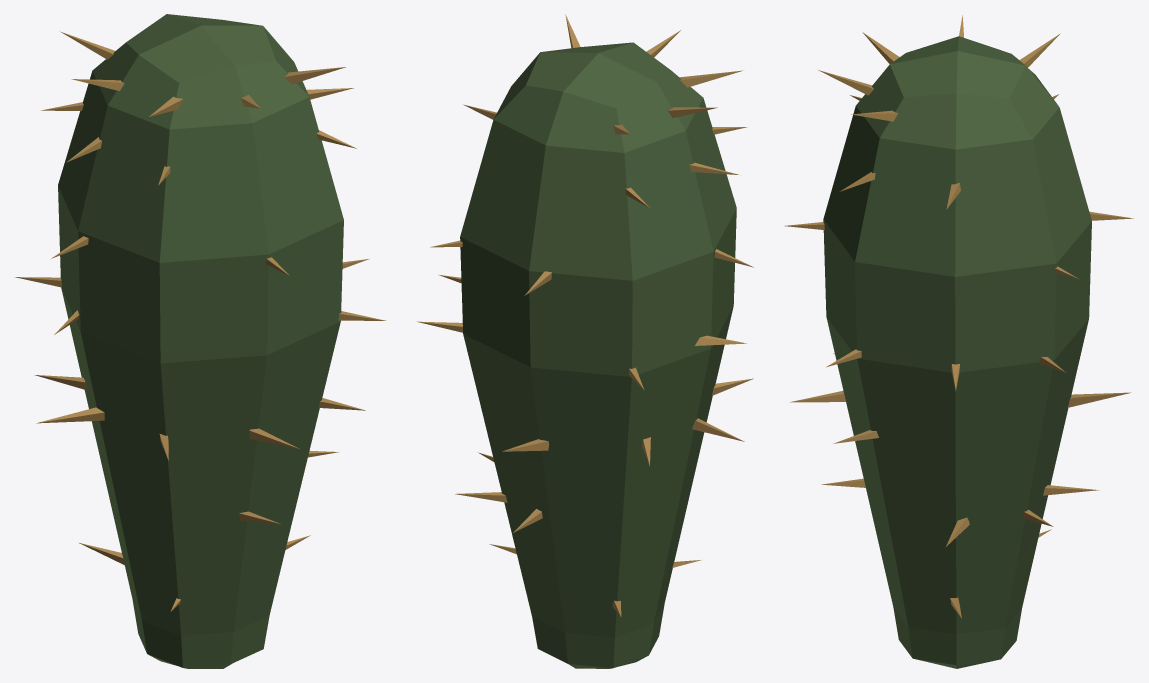
Rendered from cactus_3.gltf.
The picture shows the model from 3 angles, left to right: view 1: azimuth 30°, elevation 25°; view 2: azimuth 150°, elevation 25°; view 3: azimuth 270°, elevation 25°; orthographic projection. The views are drawn at different scales.
Visible parts, largest first — view 1: cactus_3; view 2: cactus_3; view 3: cactus_3.
Boxes of the visible parts, left/top/right/bottom form: cactus_3: left=14, top=14, right=386, bottom=668; cactus_3: left=417, top=14, right=753, bottom=668; cactus_3: left=785, top=15, right=1133, bottom=668.
Bounding box in the file's own units: 0.3937 × 0.7217 × 0.382.
1 material, 1 textured.
